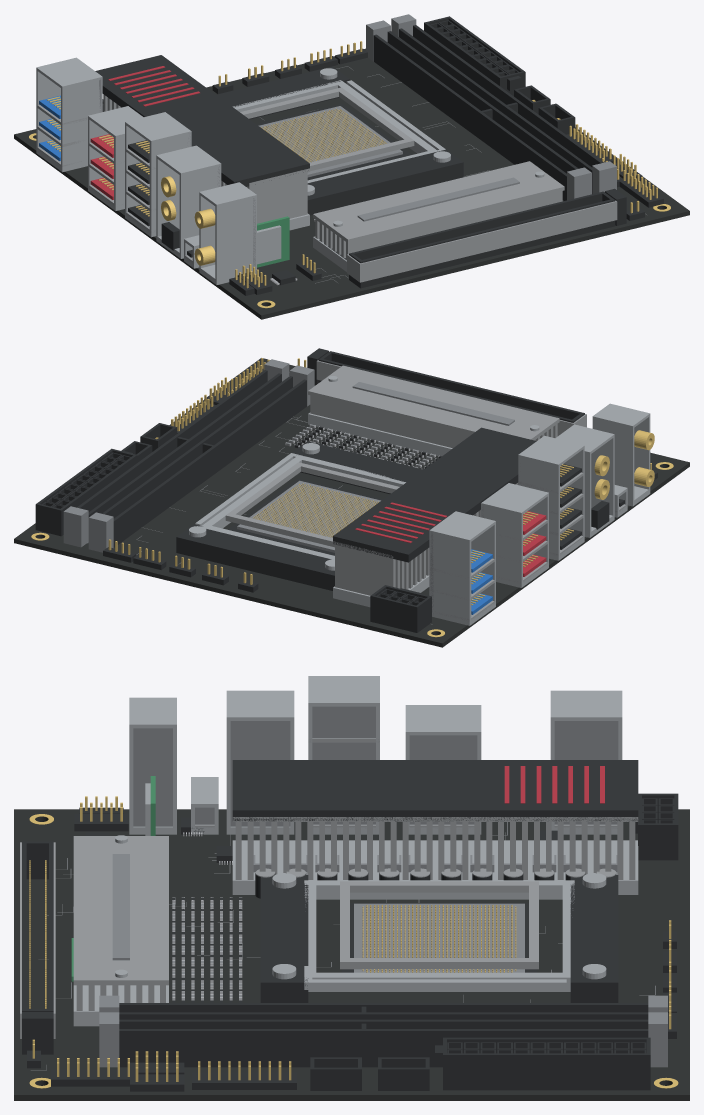
Rendered from L32_ASSEMBLED.glb.
3 views of the same model, one above another, from view 1: azimuth 30°, elevation 25°; view 2: azimuth 150°, elevation 25°; view 3: azimuth 270°, elevation 25° (orthographic). The views are drawn at different scales.
Visible parts, largest first — view 1: PCB_PCB_0, M2_1_HEATSINK_Silver_35, VRM_ARMOR_Black_40, DDR5_A1_Black_12, PCIE1_Black_22, PCIE1_Silver_23, LAN_USB_C_Steel_118, AM5_BRACKET_1_Black_10, DDR5_B1_Black_15, ANTENNA_Steel_142, CPU_AM5_Gray_6, AUDIO_Steel_133 (+28 smaller); view 2: PCB_PCB_0, VRM_ARMOR_Black_40, M2_1_HEATSINK_Silver_35, DDR5_A1_Black_12, LAN_USB_C_Steel_118, AM5_BRACKET_-1_Black_8, DDR5_B1_Black_15, CPU_AM5_Gray_6, HDMI_USB_A_Steel_123, USB_1234_Steel_128, VRM_LEFT_HEATSINK_Silver_38, PCIE1_Black_22 (+25 smaller); view 3: PCB_PCB_0, VRM_ARMOR_Black_40, DDR5_B1_Black_15, VRM_LEFT_HEATSINK_Silver_38, M2_1_HEATSINK_Silver_35, ATXPWR1_Black_20, CPU_AM5_Steel_4, DDR5_A1_Black_12, CPU_AM5_Gray_6, VRM_LEFT_HEATSINK_Steel_37, CPU_AM5_Silver_5, AM5_BRACKET_-1_Black_8 (+30 smaller).
Part boxes in pixels (x1,y1,x2,y2): PCB_PCB_0: (14, 48, 689, 319); M2_1_HEATSINK_Silver_35: (313, 161, 564, 260); VRM_ARMOR_Black_40: (95, 55, 309, 186); DDR5_A1_Black_12: (373, 31, 578, 200); PCIE1_Black_22: (349, 188, 626, 288); PCIE1_Silver_23: (347, 200, 617, 282); LAN_USB_C_Steel_118: (36, 57, 102, 172); AM5_BRACKET_1_Black_10: (307, 149, 463, 215); DDR5_B1_Black_15: (399, 25, 603, 193); ANTENNA_Steel_142: (199, 182, 256, 284); CPU_AM5_Gray_6: (258, 106, 402, 177); AUDIO_Steel_133: (156, 145, 221, 258); PCB_PCB_0: (14, 358, 689, 647); VRM_ARMOR_Black_40: (333, 427, 536, 562); M2_1_HEATSINK_Silver_35: (308, 365, 559, 448); DDR5_A1_Black_12: (102, 376, 306, 547); LAN_USB_C_Steel_118: (429, 511, 495, 625); AM5_BRACKET_-1_Black_8: (176, 524, 334, 590); DDR5_B1_Black_15: (77, 370, 281, 517); CPU_AM5_Gray_6: (237, 480, 380, 552); HDMI_USB_A_Steel_123: (481, 483, 548, 587); USB_1234_Steel_128: (518, 435, 584, 560); VRM_LEFT_HEATSINK_Silver_38: (333, 482, 518, 595); PCIE1_Black_22: (307, 348, 584, 422); PCB_PCB_0: (14, 809, 689, 1100); VRM_ARMOR_Black_40: (232, 760, 638, 821); DDR5_B1_Black_15: (119, 1019, 648, 1067); VRM_LEFT_HEATSINK_Silver_38: (232, 817, 638, 879); M2_1_HEATSINK_Silver_35: (73, 836, 168, 1010); ATXPWR1_Black_20: (435, 1037, 650, 1090); CPU_AM5_Steel_4: (304, 880, 574, 991); DDR5_A1_Black_12: (119, 1003, 648, 1019); CPU_AM5_Gray_6: (354, 903, 524, 972); VRM_LEFT_HEATSINK_Steel_37: (232, 840, 638, 894); CPU_AM5_Silver_5: (340, 881, 538, 969); AM5_BRACKET_-1_Black_8: (570, 875, 618, 1002).
Size of the model in its own units: 0.1745 by 0.0421 by 0.17.
